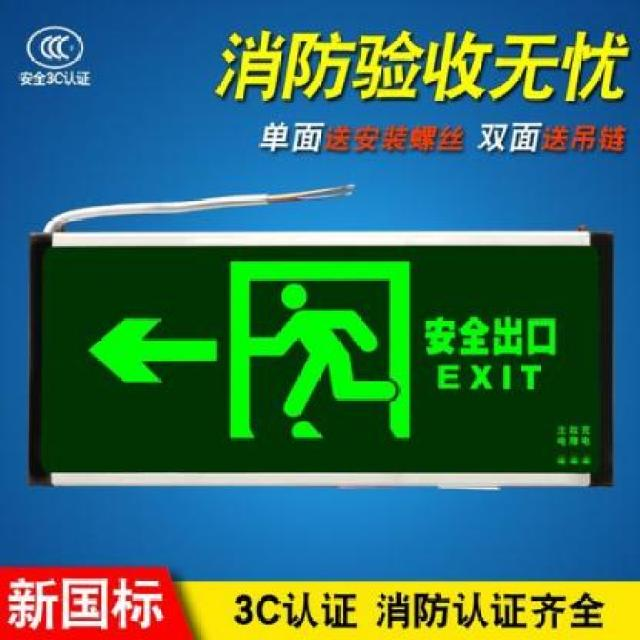exit_sign: (28, 219, 614, 493)
